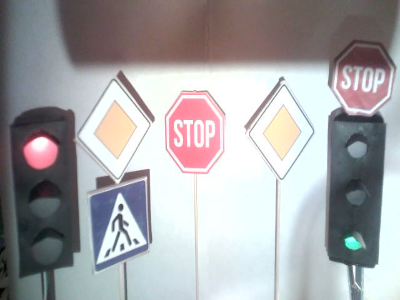crosswalk: (94, 188, 148, 264)
priority_road: (78, 79, 149, 180), (249, 85, 314, 181)
stop: (165, 91, 224, 174), (333, 43, 392, 118)
trafficlight_green: (329, 121, 379, 256)
trafficlight_red: (13, 123, 69, 267)
